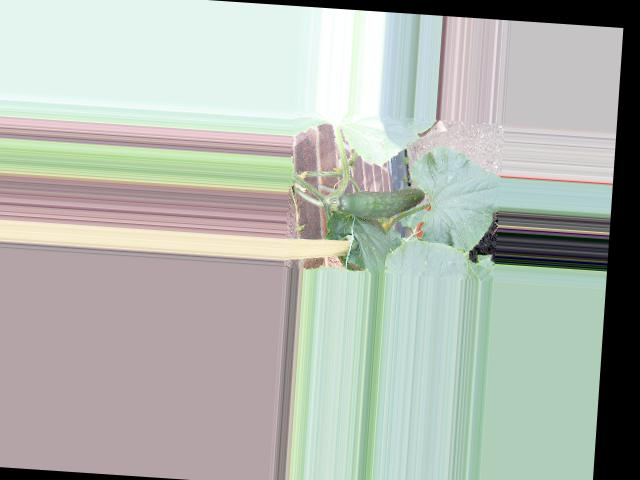cucumber: (336, 182, 425, 221)
